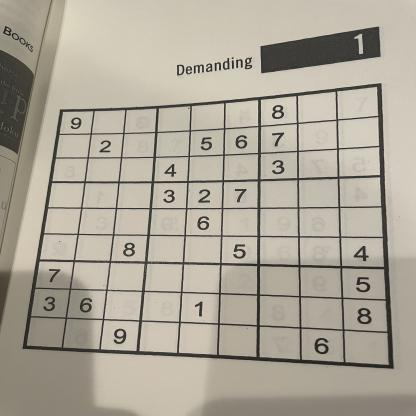sudoku: (20, 77, 398, 371)
